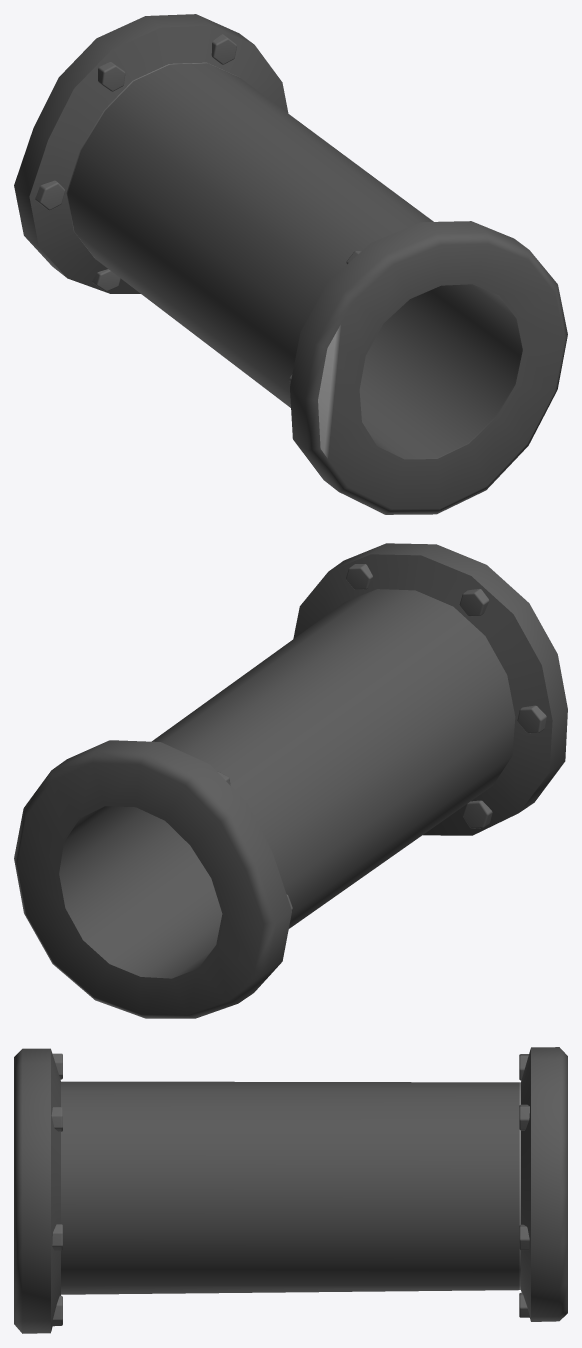
Rendered from SM_tuyau_grand_low (1).fbx.
3 renders of one model, top to bottom at view 1: azimuth 30°, elevation 25°; view 2: azimuth 150°, elevation 25°; view 3: azimuth 270°, elevation 25°, orthographic. The views are drawn at different scales.
Visible parts, largest first — view 1: SM_tuyau_grand_low; view 2: SM_tuyau_grand_low; view 3: SM_tuyau_grand_low.
Part boxes in pixels (x1,y1,x2,y2): SM_tuyau_grand_low: (14, 14, 567, 514); SM_tuyau_grand_low: (14, 543, 567, 1018); SM_tuyau_grand_low: (14, 1047, 567, 1333).
Bounding box in the file's own units: 0.2644 × 0.2743 × 0.5238.
1 material, 1 textured.
